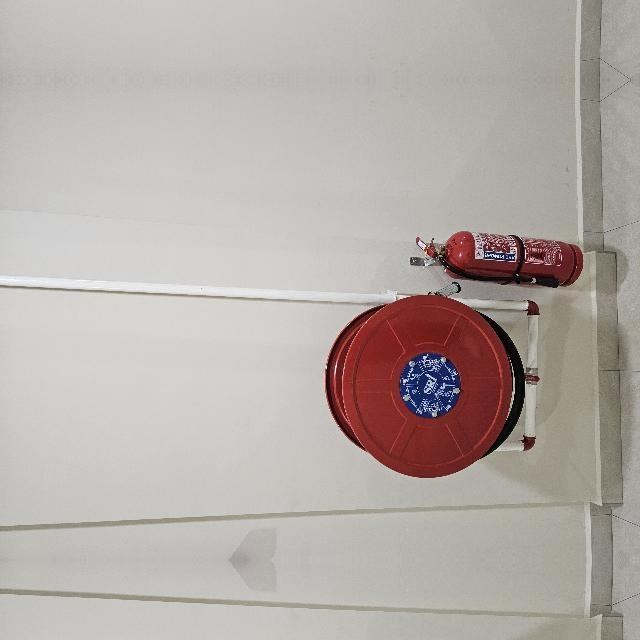obstacle: (81, 402, 269, 622), (81, 498, 269, 640), (270, 454, 332, 632), (269, 488, 332, 640)
